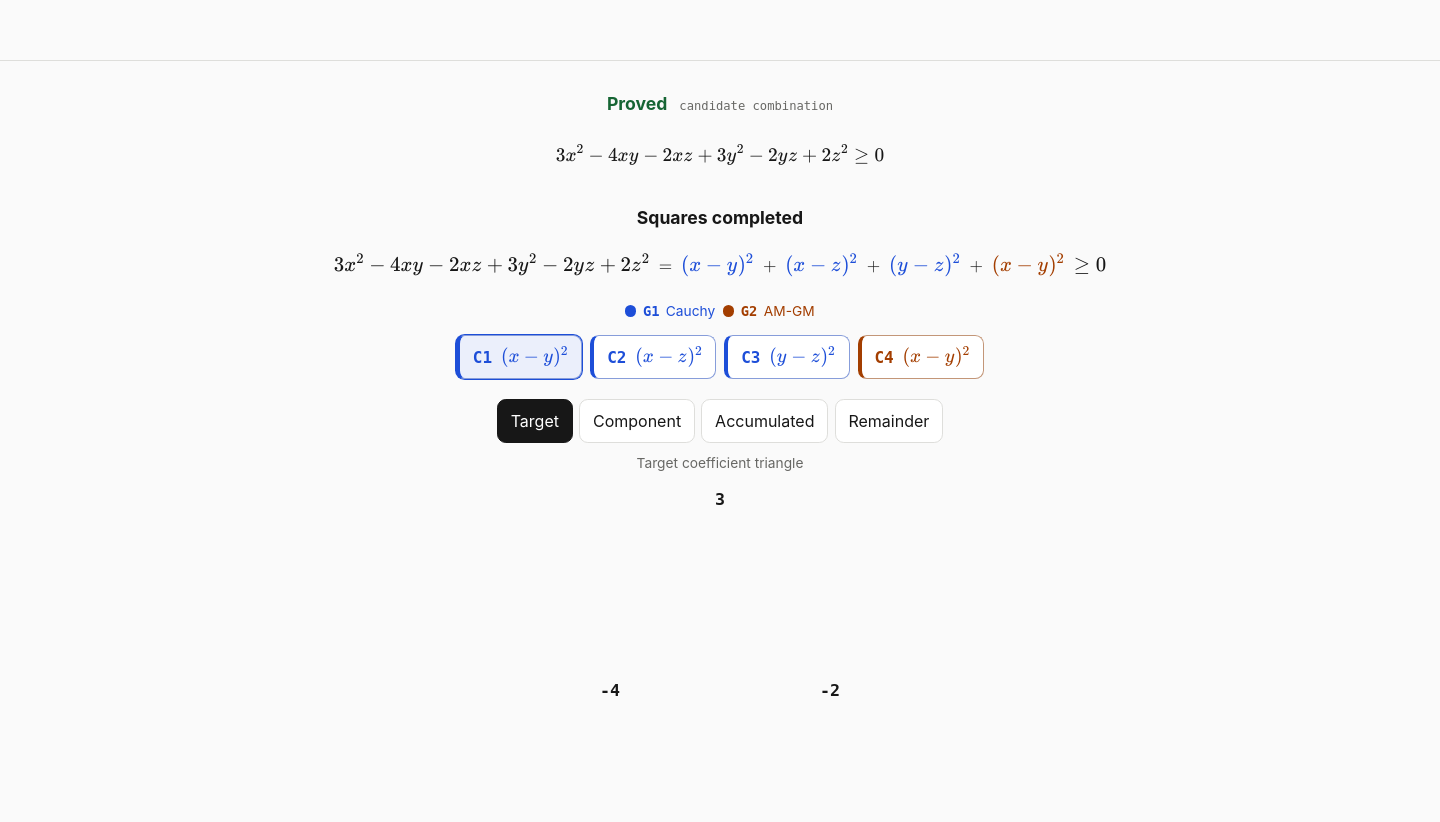
proof result presentation › steps through component, accumulated, and exact remainder triangles
Click the button named "component-1" at (519, 357), box [456,335,582,379]
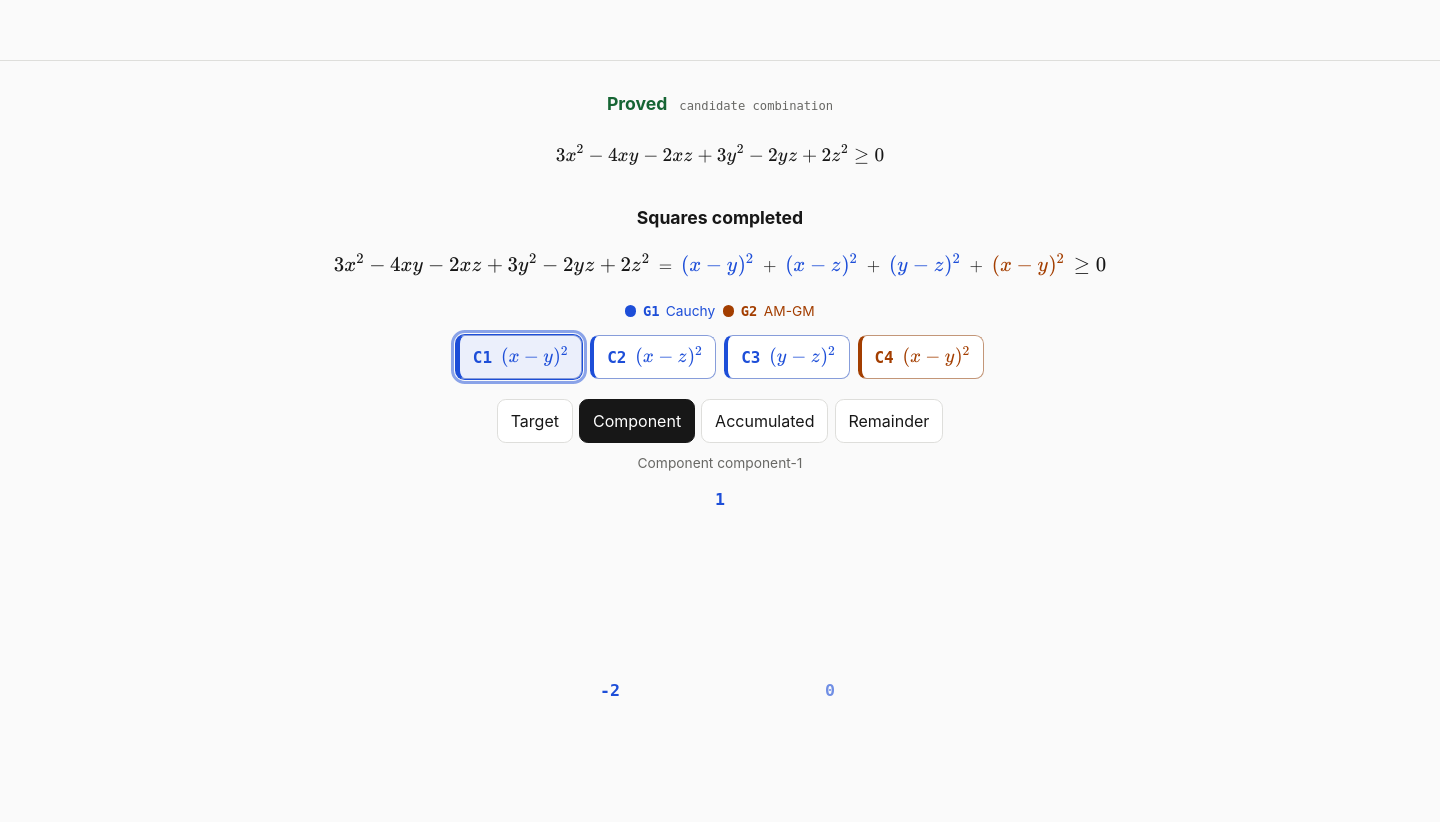
Now the element showing "1" has attribute data-coefficient="1", box [715,490,725,509]
Click the button "Remainder" at (889, 421), box [835,399,943,443]
(page scrolled)
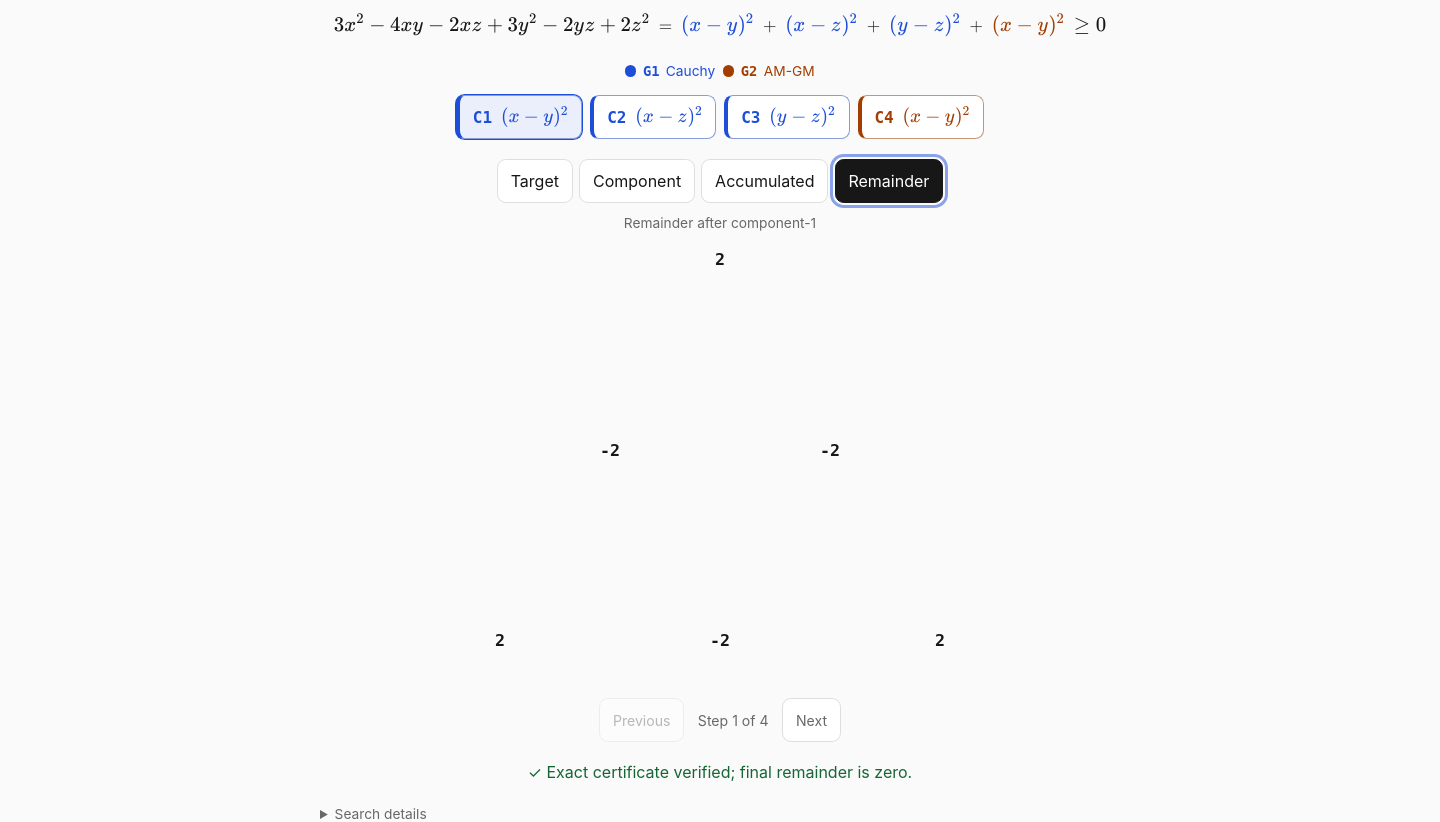
Now the 12th element showing "2" has attribute data-coefficient="2", box [715,250,725,269]
Click the button "Next" at (812, 720), box [782,698,841,742]
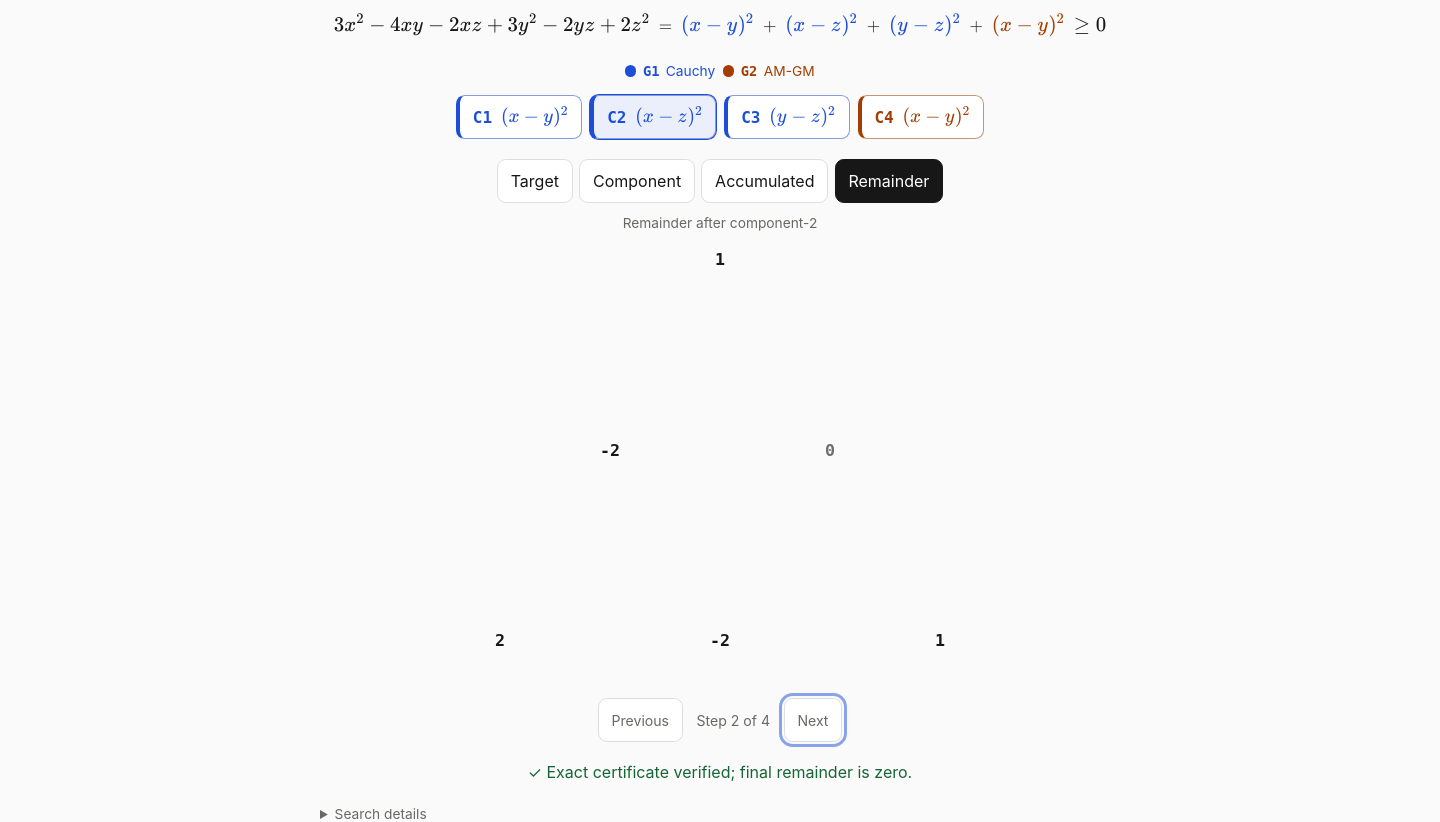
Now the picture named "Remainder after component-2" is shown, box [466,231,974,686]
Click the button "Next" at (813, 720), box [784,698,842,742]
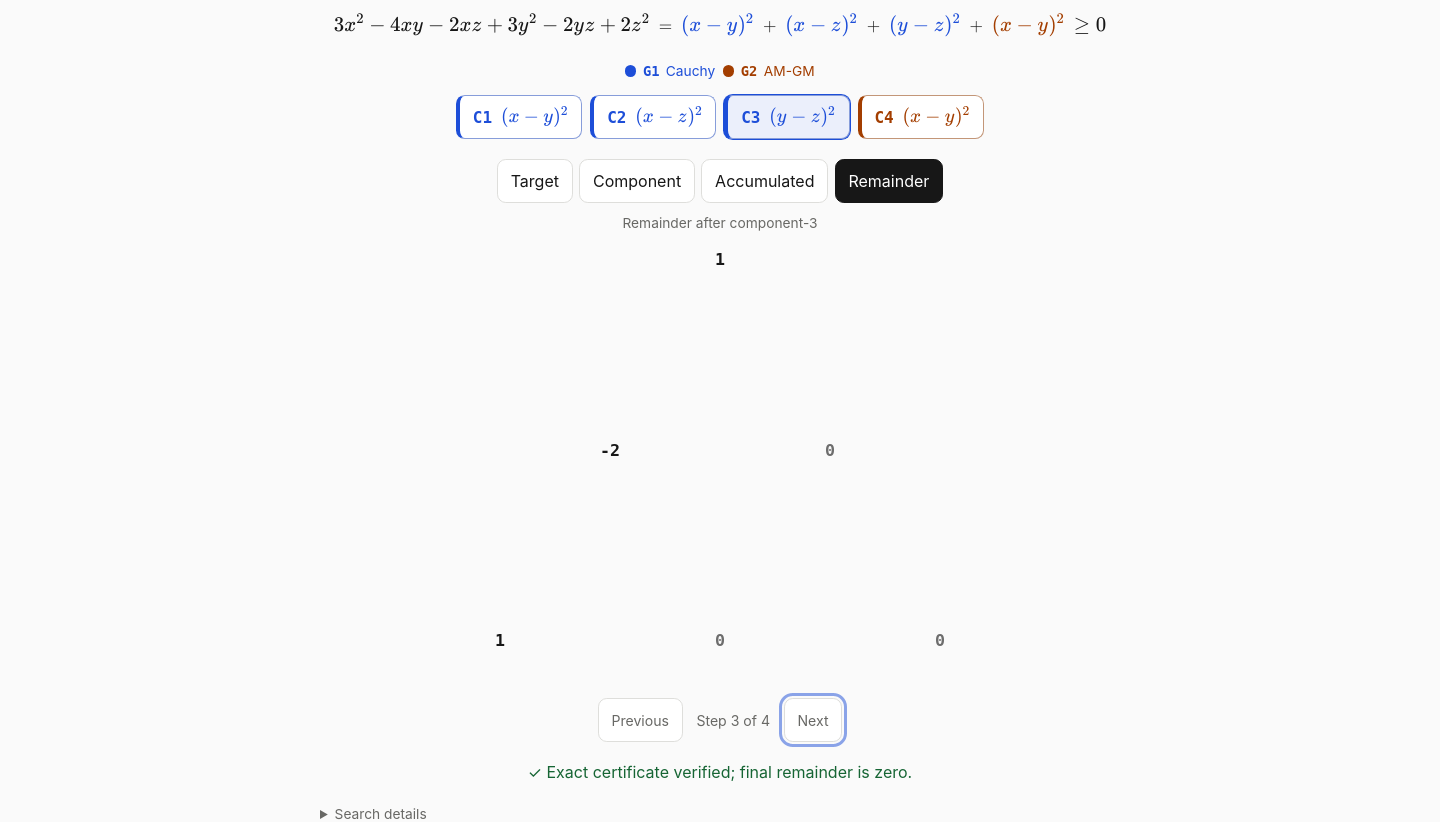
Now the picture named "Remainder after component-3" is shown, box [466,231,974,686]
Click the button "Next" at (813, 720), box [784,698,842,742]
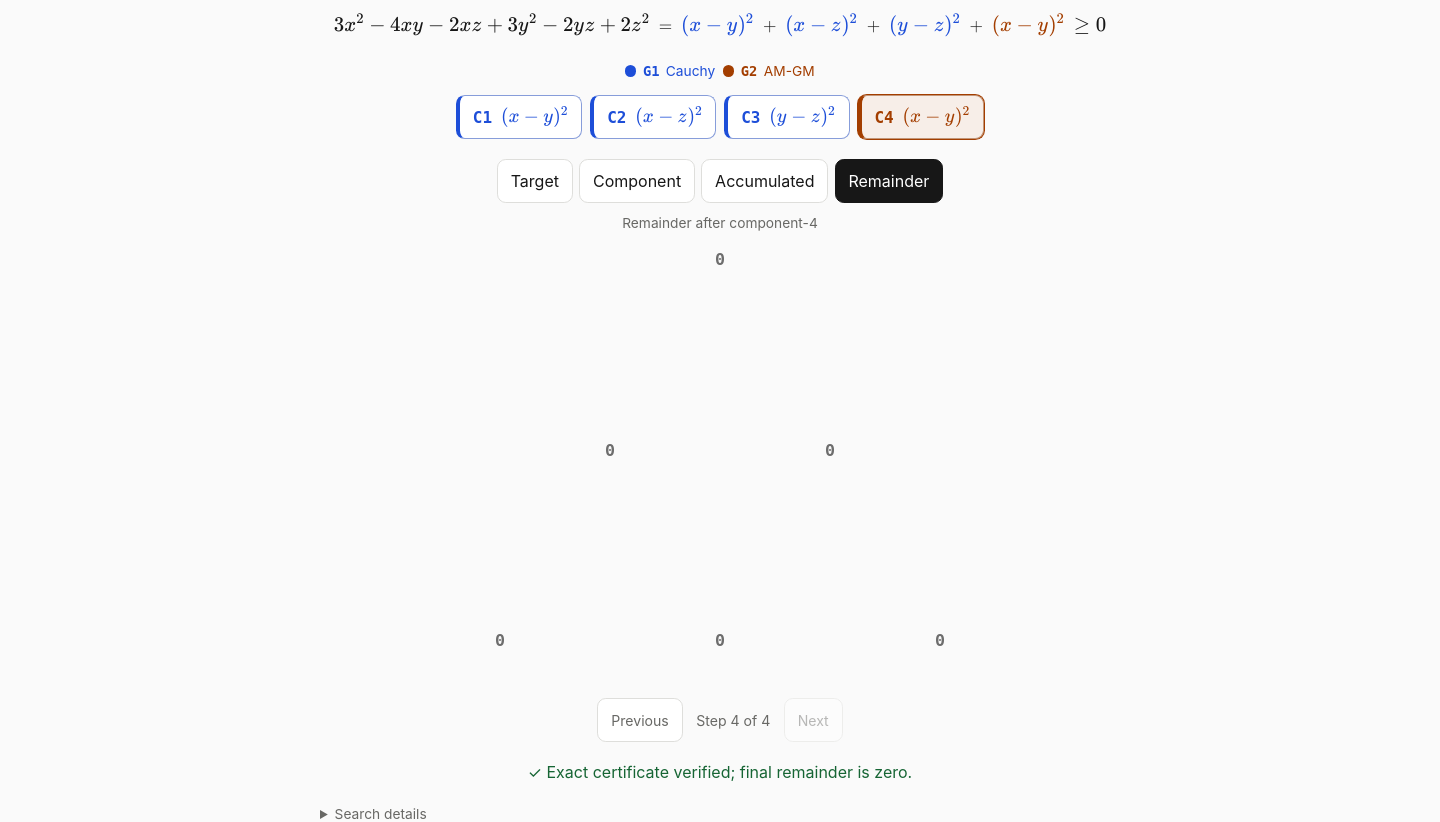
Now the button "Next" is disabled, box [784,698,843,742]
Click the button "Accumulated" at (765, 181), box [701,159,828,203]
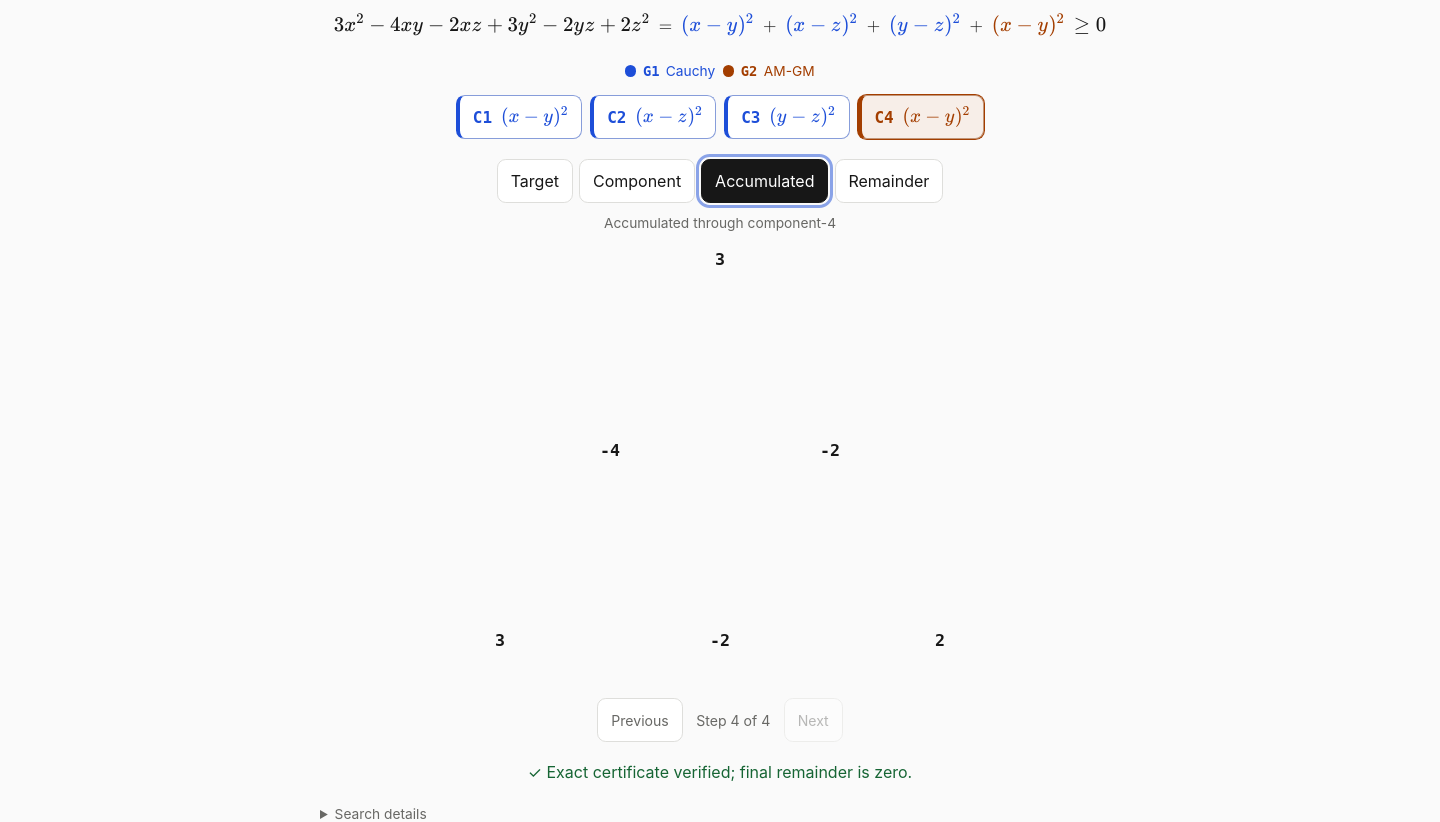
Now the picture named "Accumulated through component-4" is shown, box [466,231,974,686]
